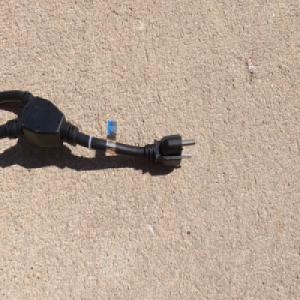Wire: (0, 87, 197, 170)
